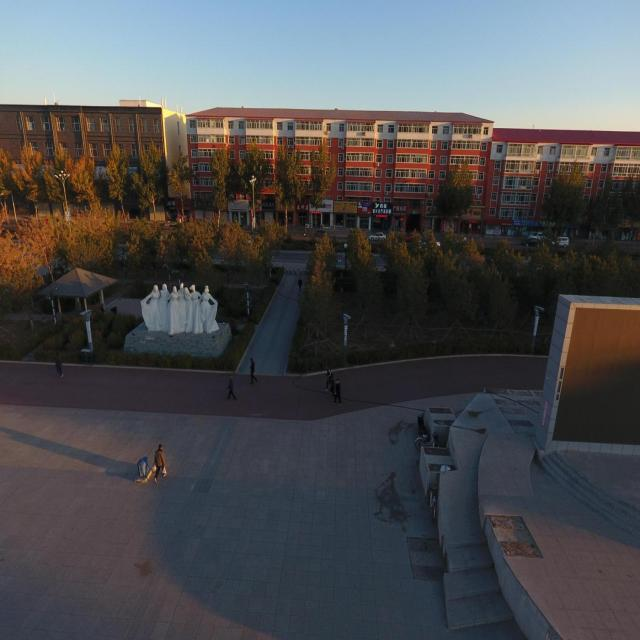person: (135, 443, 167, 484), (226, 376, 237, 400), (325, 367, 334, 392), (250, 357, 258, 384), (55, 354, 64, 378), (334, 378, 342, 405), (297, 278, 302, 293)
tree: (270, 141, 306, 233), (166, 150, 194, 221), (210, 145, 230, 229)
